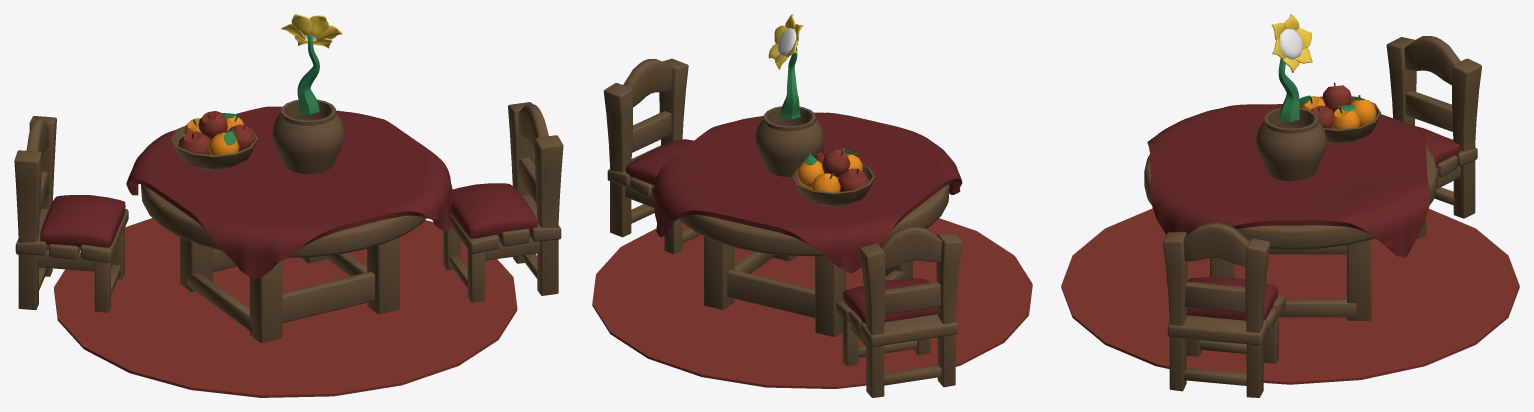
The model's file is TableKitchen.fbx.
The picture shows the model from 3 angles, left to right: view 1: azimuth 30°, elevation 25°; view 2: azimuth 150°, elevation 25°; view 3: azimuth 270°, elevation 25°; orthographic projection. The views are drawn at different scales.
Visible parts, largest first — view 1: Cylinder.006, Cylinder.033, Cylinder.011, Cylinder.029; view 2: Cylinder.006, Cylinder.033, Cylinder.029, Cylinder.011; view 3: Cylinder.006, Cylinder.033, Cylinder.011, Cylinder.029.
Boxes of the visible parts, x1,y1,x2,y2 form: Cylinder.006: (126,14,453,342); Cylinder.033: (54,218,517,397); Cylinder.011: (443,102,563,302); Cylinder.029: (14,116,128,312); Cylinder.006: (653,14,962,336); Cylinder.033: (592,218,1032,388); Cylinder.029: (836,226,962,397); Cylinder.011: (603,58,700,254); Cylinder.006: (1144,14,1437,320); Cylinder.033: (1061,208,1519,384); Cylinder.011: (1162,222,1285,397); Cylinder.029: (1386,36,1481,238).
Bounding box in the file's own units: 2.46 × 1.5 × 2.22.
